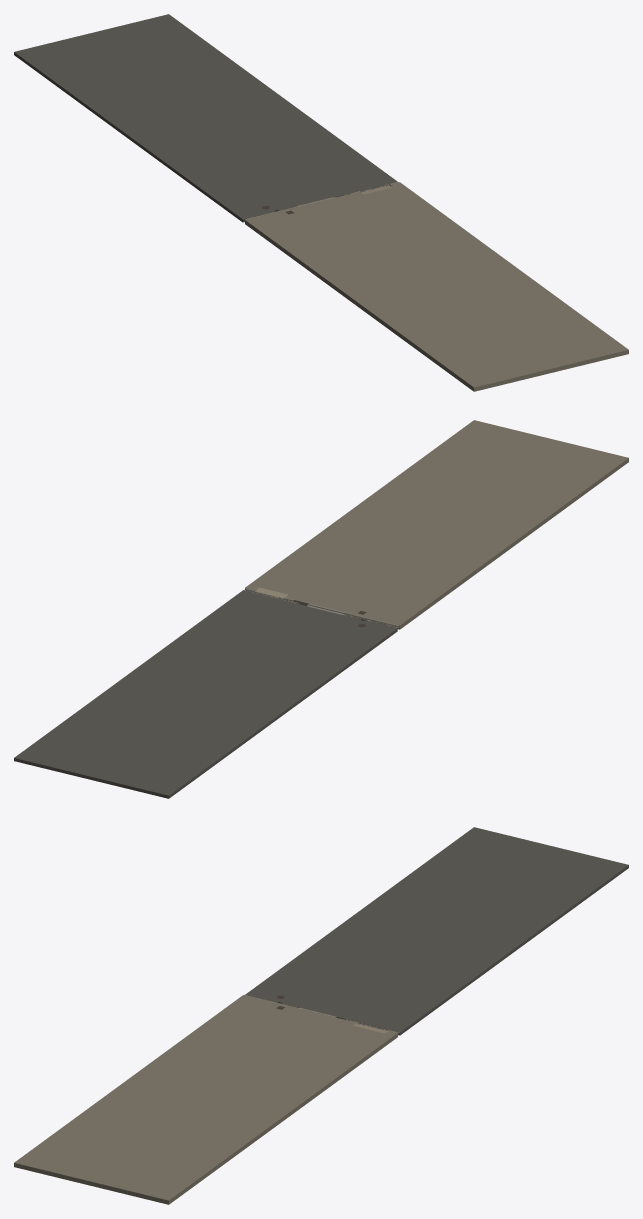
Rendered from review_scene.glb.
3 views of the same model, one above another, from view 1: azimuth 30°, elevation 25°; view 2: azimuth 150°, elevation 25°; view 3: azimuth 330°, elevation 25° (orthographic).
Visible parts, largest first — view 1: ground_road_c, ground_footway, ground_road_a, ground_footway.001, ground_footway.002, ground_road_b; view 2: ground_road_c, ground_footway, ground_road_a, ground_footway.001, ground_footway.002, ground_road_b; view 3: ground_road_c, ground_footway, ground_road_a, ground_footway.002, ground_footway.001, ground_road_b.
Boxes of the visible parts, <box> form: ground_road_c: <box>105,14,397,197</box>; ground_footway: <box>245,206,528,391</box>; ground_road_a: <box>14,38,296,222</box>; ground_footway.001: <box>299,194,580,378</box>; ground_footway.002: <box>355,185,628,365</box>; ground_road_b: <box>69,29,332,205</box>; ground_road_c: <box>14,590,306,776</box>; ground_footway: <box>346,444,628,629</box>; ground_road_a: <box>114,615,397,798</box>; ground_footway.001: <box>293,432,574,612</box>; ground_footway.002: <box>249,420,522,596</box>; ground_road_b: <box>77,606,342,785</box>; ground_road_c: <box>336,849,628,1035</box>; ground_footway: <box>14,995,296,1179</box>; ground_road_a: <box>245,827,527,1007</box>; ground_footway.002: <box>120,1024,393,1204</box>; ground_footway.001: <box>68,1008,348,1192</box>; ground_road_b: <box>300,840,564,1016</box>.
Bounding box in the file's own units: 15.55 × 0.46 × 80.
